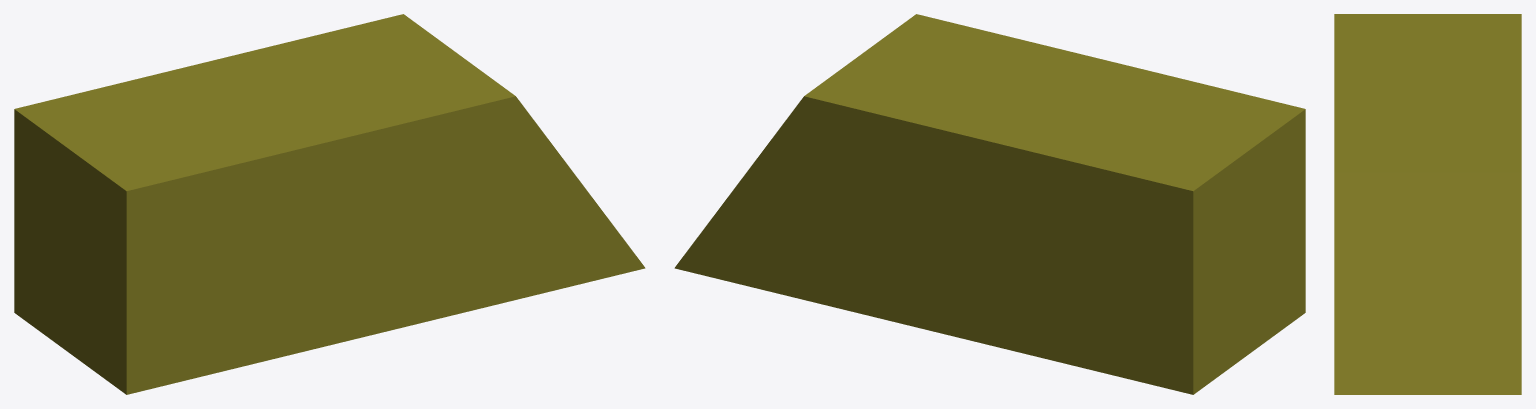
Rendered from act-1-bus-2.glb.
The picture shows the model from 3 angles, left to right: view 1: azimuth 30°, elevation 25°; view 2: azimuth 150°, elevation 25°; view 3: azimuth 270°, elevation 25°; orthographic projection. The views are drawn at different scales.
Visible parts, largest first — view 1: act-1-bus-1; view 2: act-1-bus-1; view 3: act-1-bus-1.
Boxes of the visible parts, x1,y1,x2,y2 form: act-1-bus-1: [14, 14, 645, 394]; act-1-bus-1: [674, 14, 1305, 394]; act-1-bus-1: [1334, 14, 1521, 394].
Size of the model in its own units: 8 by 3 by 3.
